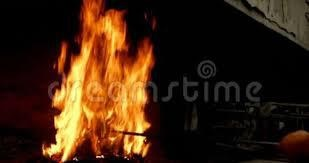fire: (47, 2, 156, 162)
